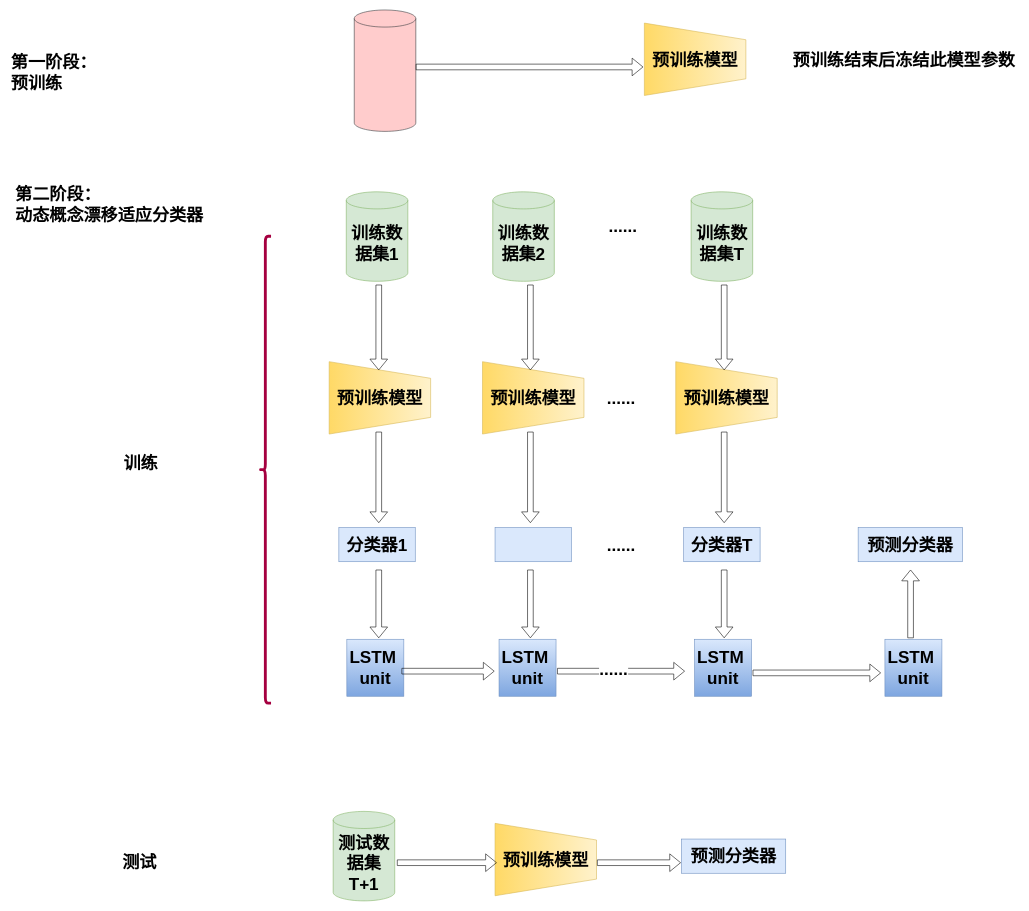
The diagram is 1029 pixels wide and 911 high, and some of its shapes have lost their labels. The centre of each missing label's shape, as x and y in pixels:
"分类器2" goes at point (532, 544).
"辅助数据集" goes at point (385, 70).
